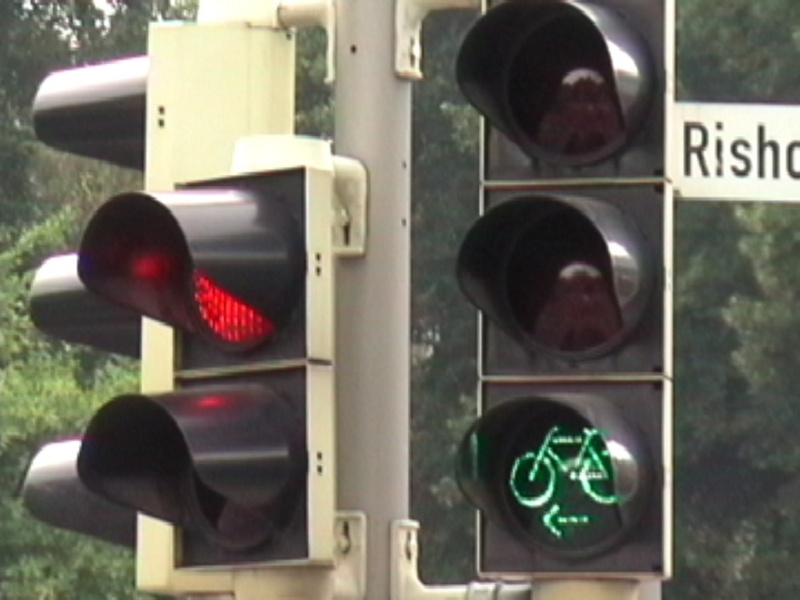cycle_route_ahead: (468, 388, 649, 564)
red_light: (70, 196, 303, 358)
